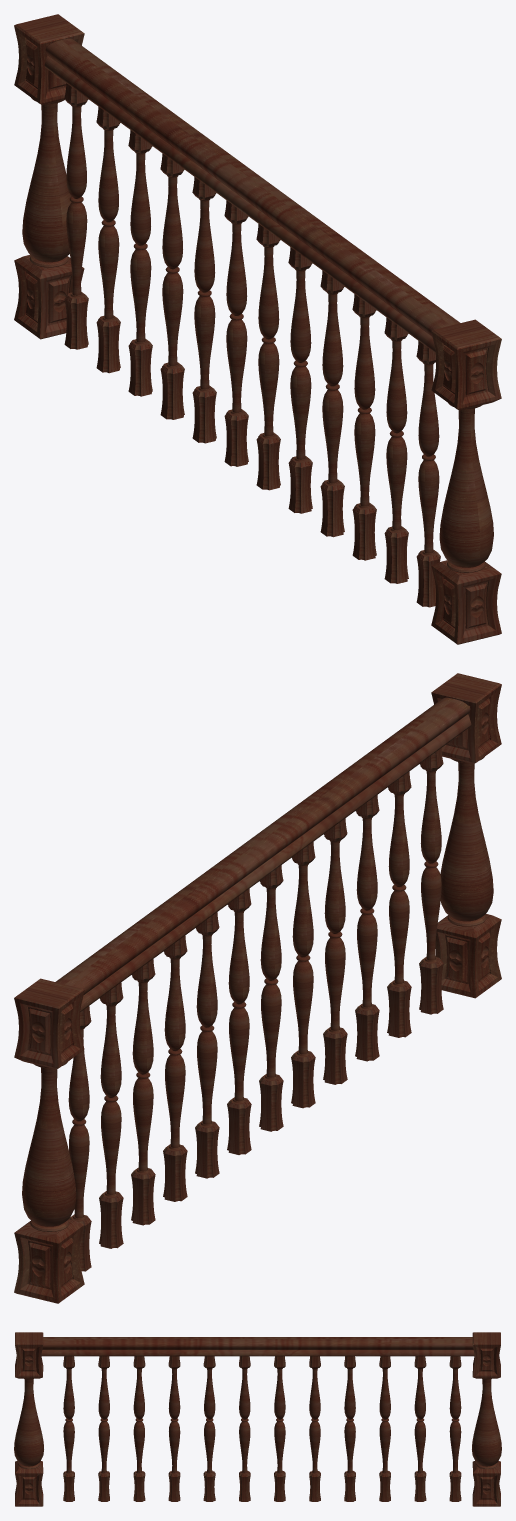
The model's file is DTYDFittings.fbx_RailingMed.fbx.
The picture shows the model from 3 angles, top to bottom: view 1: azimuth 30°, elevation 25°; view 2: azimuth 150°, elevation 25°; view 3: azimuth 270°, elevation 25°; orthographic projection. The views are drawn at different scales.
Parts seen in each view (by area): view 1: BézierCurve.045, BézierCurve.046, Cube.083, Cube.082, BézierCurve.048, BézierCurve.047; view 2: BézierCurve.045, BézierCurve.046, Cube.082, Cube.083, BézierCurve.047, BézierCurve.048; view 3: BézierCurve.045, BézierCurve.046, Cube.083, Cube.082, BézierCurve.047, BézierCurve.048.
Boxes of the visible parts, bbox=[...] form: BézierCurve.045: bbox=[64, 83, 440, 607]; BézierCurve.046: bbox=[44, 38, 460, 352]; Cube.083: bbox=[431, 319, 501, 644]; Cube.082: bbox=[14, 14, 84, 339]; BézierCurve.048: bbox=[439, 408, 493, 567]; BézierCurve.047: bbox=[22, 103, 71, 262]; BézierCurve.045: bbox=[68, 748, 443, 1271]; BézierCurve.046: bbox=[55, 697, 471, 1011]; Cube.082: bbox=[14, 978, 84, 1303]; Cube.083: bbox=[431, 673, 501, 998]; BézierCurve.047: bbox=[22, 1067, 76, 1226]; BézierCurve.048: bbox=[440, 762, 493, 921]; BézierCurve.045: bbox=[63, 1356, 461, 1501]; BézierCurve.046: bbox=[41, 1337, 474, 1356]; Cube.083: bbox=[15, 1332, 43, 1506]; Cube.082: bbox=[472, 1332, 500, 1506]; BézierCurve.047: bbox=[472, 1379, 501, 1466]; BézierCurve.048: bbox=[14, 1379, 43, 1466].
Bounding box in the file's own units: 66.1 × 394 × 1069.
Materials: 2 (2 with a texture image).
